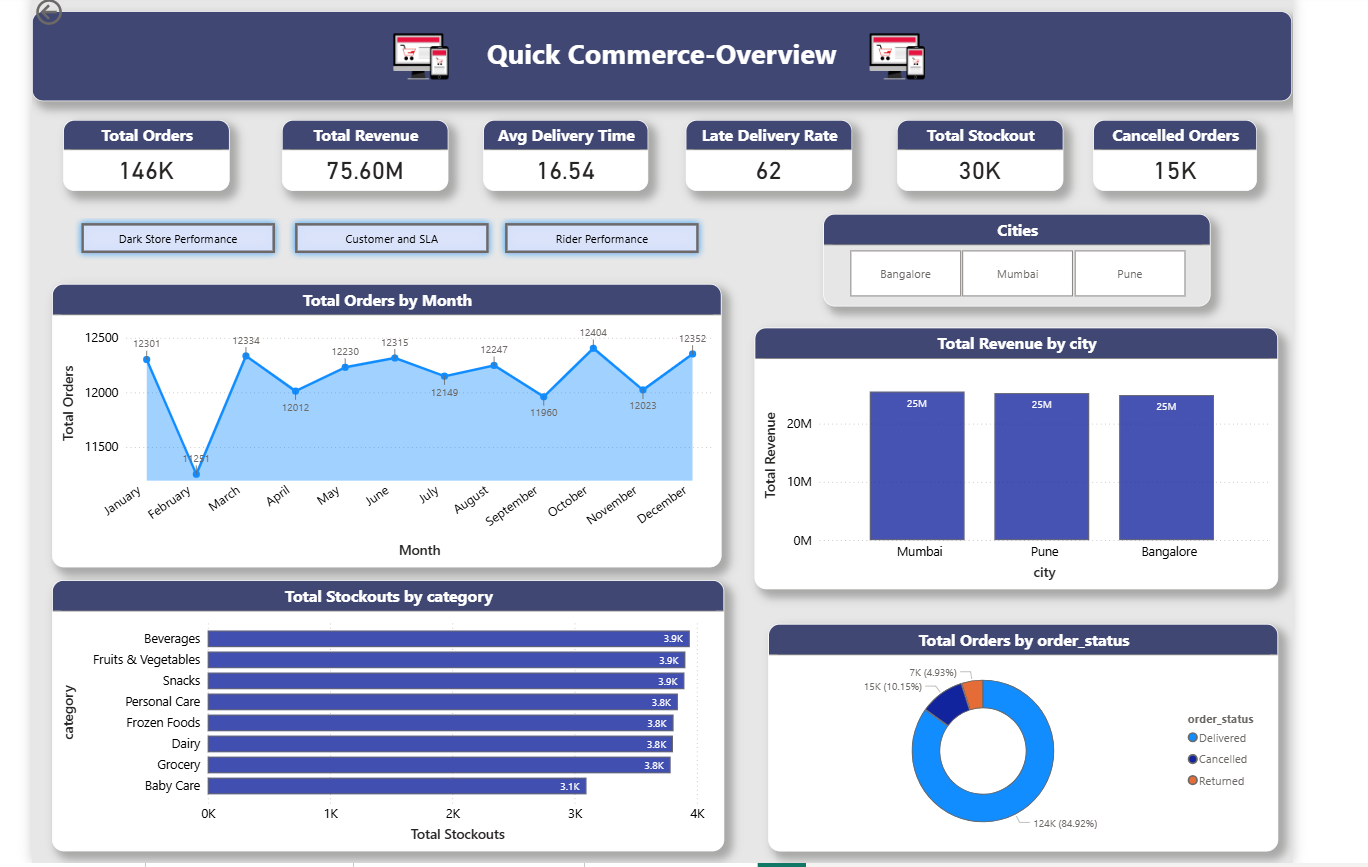

What the dashboard file says about the page in this screenshot:
{"tool":"powerbi","page":{"name":"Operations Overview","canvas":[1479,1019],"ordinal":0},"visuals":[{"type":"textbox","box":[0,19.2,1478.6,105.6],"z":0},{"type":"card","title":"Total Orders","fields":{"Values":["quickcommerce fact_orders.Total Orders"]},"box":[36.8,147.2,195.2,83.2],"z":1000},{"type":"card","title":"Late Delivery Rate","fields":{"Values":["quickcommerce fact_orders.Late Delivery Rate"]},"box":[766.5,147.2,195.2,83.2],"z":2000},{"type":"card","title":"Avg Delivery Time","fields":{"Values":["quickcommerce fact_orders.Avg Delivery Time"]},"box":[529.7,147.2,193.6,83.2],"z":3000},{"type":"card","title":"Total Revenue","fields":{"Values":["quickcommerce fact_orders.Total Revenue"]},"box":[292.8,147.2,195.2,83.2],"z":4000},{"type":"actionButton","box":[0,0,100,40],"z":5000},{"type":"card","title":"Total Stockout","fields":{"Values":["quickcommerce fact_orders.Total Stockouts"]},"box":[1014.5,147.2,195.2,83.2],"z":6000},{"type":"card","title":"Cancelled Orders","fields":{"Values":["quickcommerce fact_orders.Cancelled Orders"]},"box":[1245,147.2,192,83.2],"z":7000},{"type":"lineChart","fields":{"Y":["quickcommerce fact_orders.Total Orders"],"Category":["quickcommerce fact_orders.order_date.Variation.Date Hierarchy.Month"]},"box":[24,339.2,785.7,332.8],"z":8000},{"type":"donutChart","fields":{"Category":["quickcommerce fact_orders.order_status"],"Y":["quickcommerce fact_orders.Total Orders"]},"box":[864.1,737.7,598.5,267.2],"z":9000},{"type":"columnChart","fields":{"Category":["quickcommerce dim_dark_stores.city"],"Y":["quickcommerce fact_orders.Total Revenue"]},"box":[848.1,390.4,614.5,307.2],"z":10000},{"type":"clusteredBarChart","fields":{"Category":["quickcommerce dim_products.category"],"Y":["quickcommerce fact_orders.Total Stockouts"]},"box":[24,686.5,788.9,318.4],"z":11000},{"type":"slicer","title":"Cities","fields":{"Values":["quickcommerce dim_dark_stores.city"]},"box":[928.1,256,454.5,108.8],"z":12000},{"type":"actionButton","title":"Store PerFormance","box":[49.6,259.2,243.2,51.2],"z":13000},{"type":"actionButton","title":"Store PerFormance","box":[547.3,259.2,243.2,51.2],"z":14000},{"type":"actionButton","title":"Store PerFormance","box":[300.8,259.2,243.2,51.2],"z":15000},{"type":"image","box":[369.8,39.5,173.8,64.8],"z":15001},{"type":"image","box":[927.7,39.5,173.8,64.8],"z":15002}]}

Visuals, with their boxes on the page's 1479x1019 design canvas (x1, y1, x2, y2). These are canvas units, not pixel positions in the 1368x867 screenshot, which may show the page scaled, cropped or inside an application window:
textbox: 0:19:1479:125
"Total Orders" card: 37:147:232:230
"Late Delivery Rate" card: 766:147:962:230
"Avg Delivery Time" card: 530:147:723:230
"Total Revenue" card: 293:147:488:230
actionButton: 0:0:100:40
"Total Stockout" card: 1014:147:1210:230
"Cancelled Orders" card: 1245:147:1437:230
lineChart - quickcommerce fact_orders.Total Orders x quickcommerce fact_orders.order_date.Variation.Date Hierarchy.Month: 24:339:810:672
donutChart - quickcommerce fact_orders.order_status x quickcommerce fact_orders.Total Orders: 864:738:1463:1005
columnChart - quickcommerce dim_dark_stores.city x quickcommerce fact_orders.Total Revenue: 848:390:1463:698
clusteredBarChart - quickcommerce dim_products.category x quickcommerce fact_orders.Total Stockouts: 24:686:813:1005
"Cities" slicer: 928:256:1383:365
"Store PerFormance" actionButton: 50:259:293:310
"Store PerFormance" actionButton: 547:259:790:310
"Store PerFormance" actionButton: 301:259:544:310
image: 370:40:544:104
image: 928:40:1102:104
